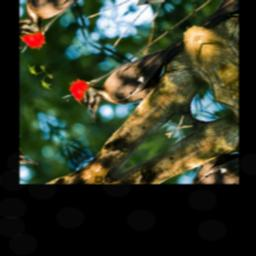Woodpecker: (62, 16, 203, 135)
